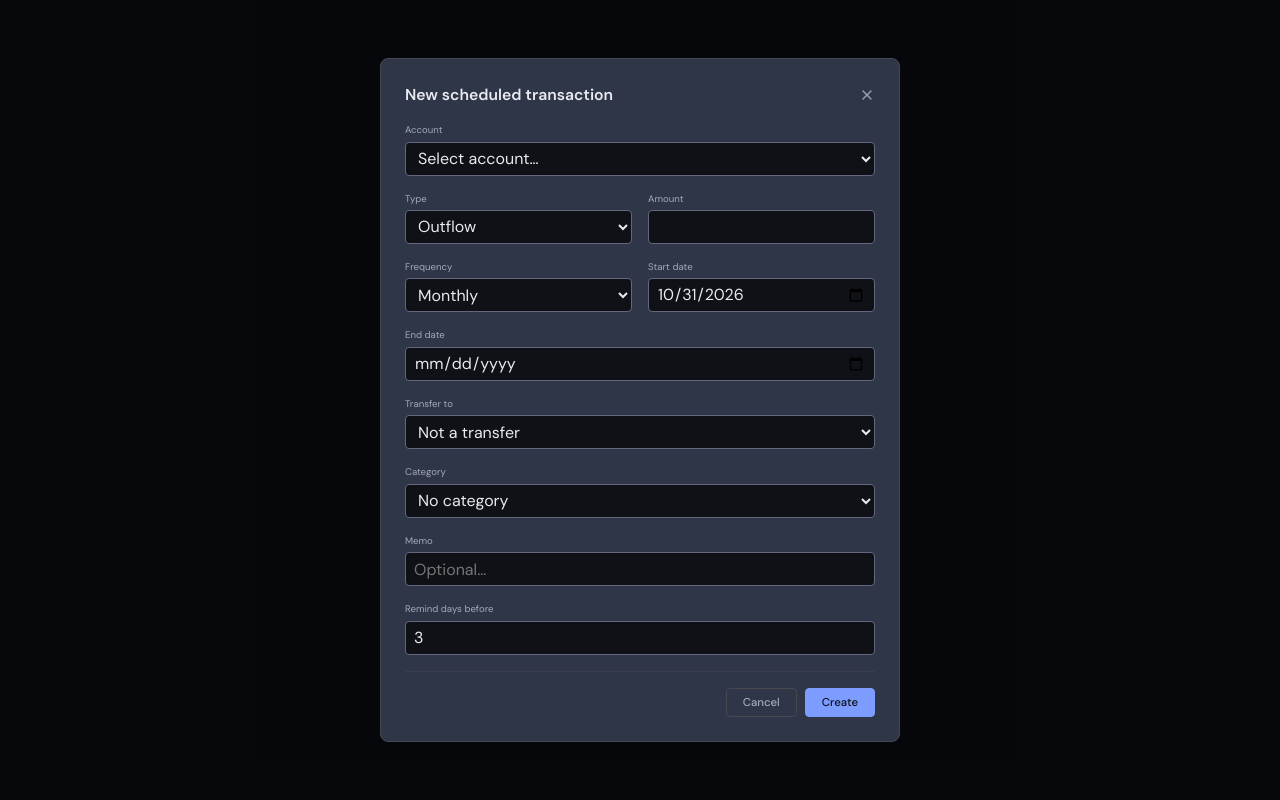
Test case: ScheduledTransactionEditor › keeps Create enabled with no account, and asks for one on press
The width and height of the screenshot is (1280, 800).
expect the button "Create" is enabled: met, box top-left (805, 688), bottom-right (875, 717)
In the number field labelled "Amount": (762, 227) top-left (648, 210), bottom-right (875, 244), type "40"
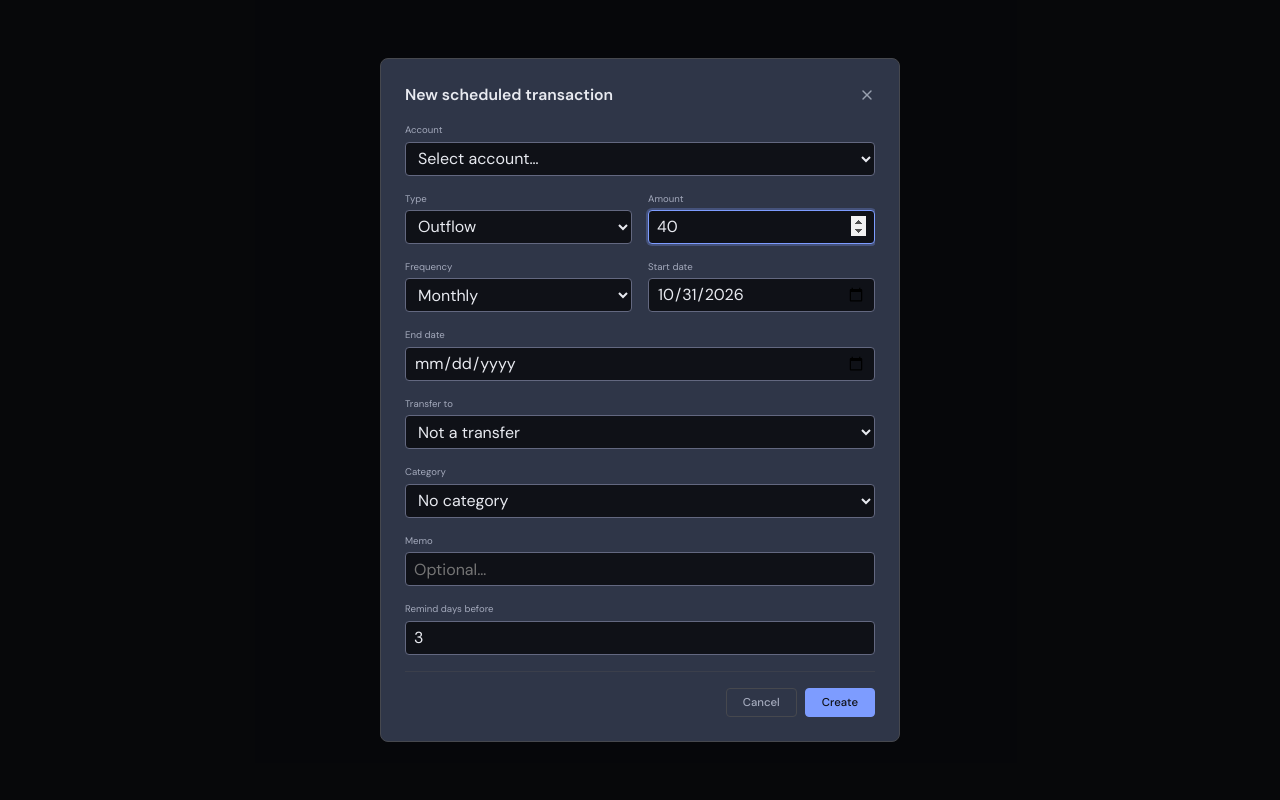
Click the button "Create": click(840, 702) top-left (805, 688), bottom-right (875, 717)
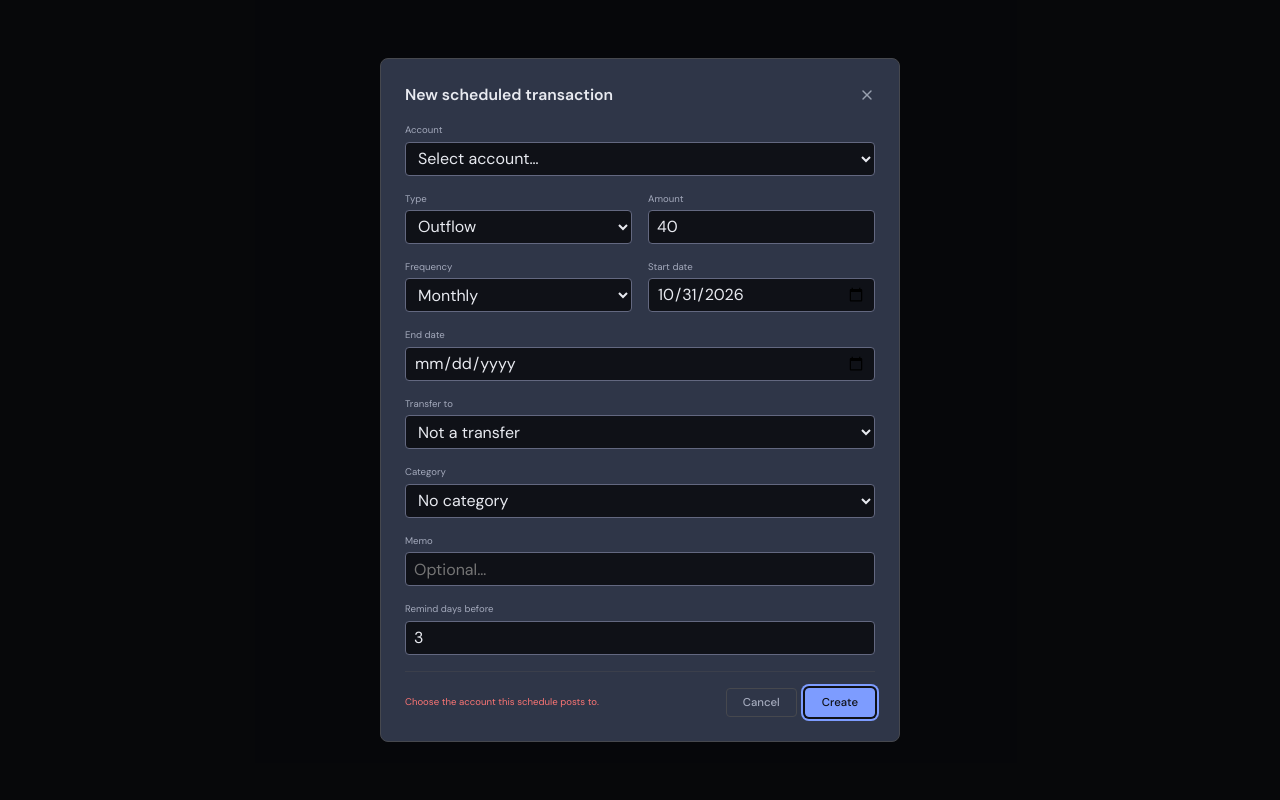
expect the message shows "Choose the account": met, box top-left (405, 695), bottom-right (599, 708)
